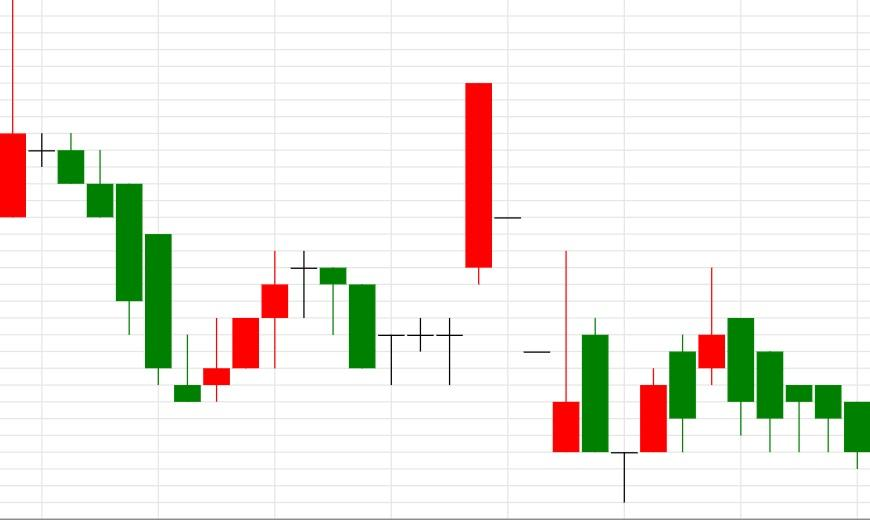inverse_hammer_rise: (0, 0, 202, 403), (465, 82, 581, 453)
morning_star_rise: (466, 81, 668, 503)
three_white_soldiers_rise: (0, 0, 289, 403)
